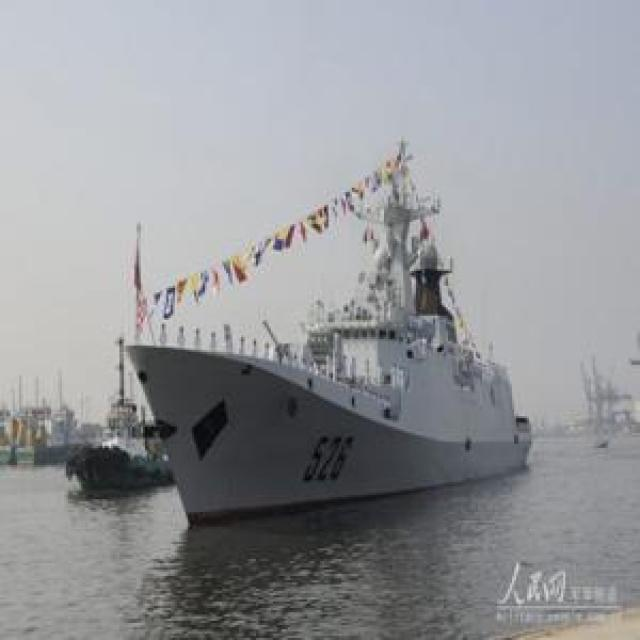fishing boat: (66, 330, 181, 488)
navalvessels: (138, 175, 528, 508)
